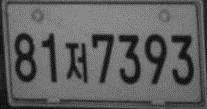1: (40, 31, 59, 83)
3: (170, 34, 194, 86), (117, 33, 141, 84)
7: (91, 33, 114, 83)
8: (14, 32, 37, 83)
9: (144, 32, 167, 85)
저: (64, 41, 88, 83)
